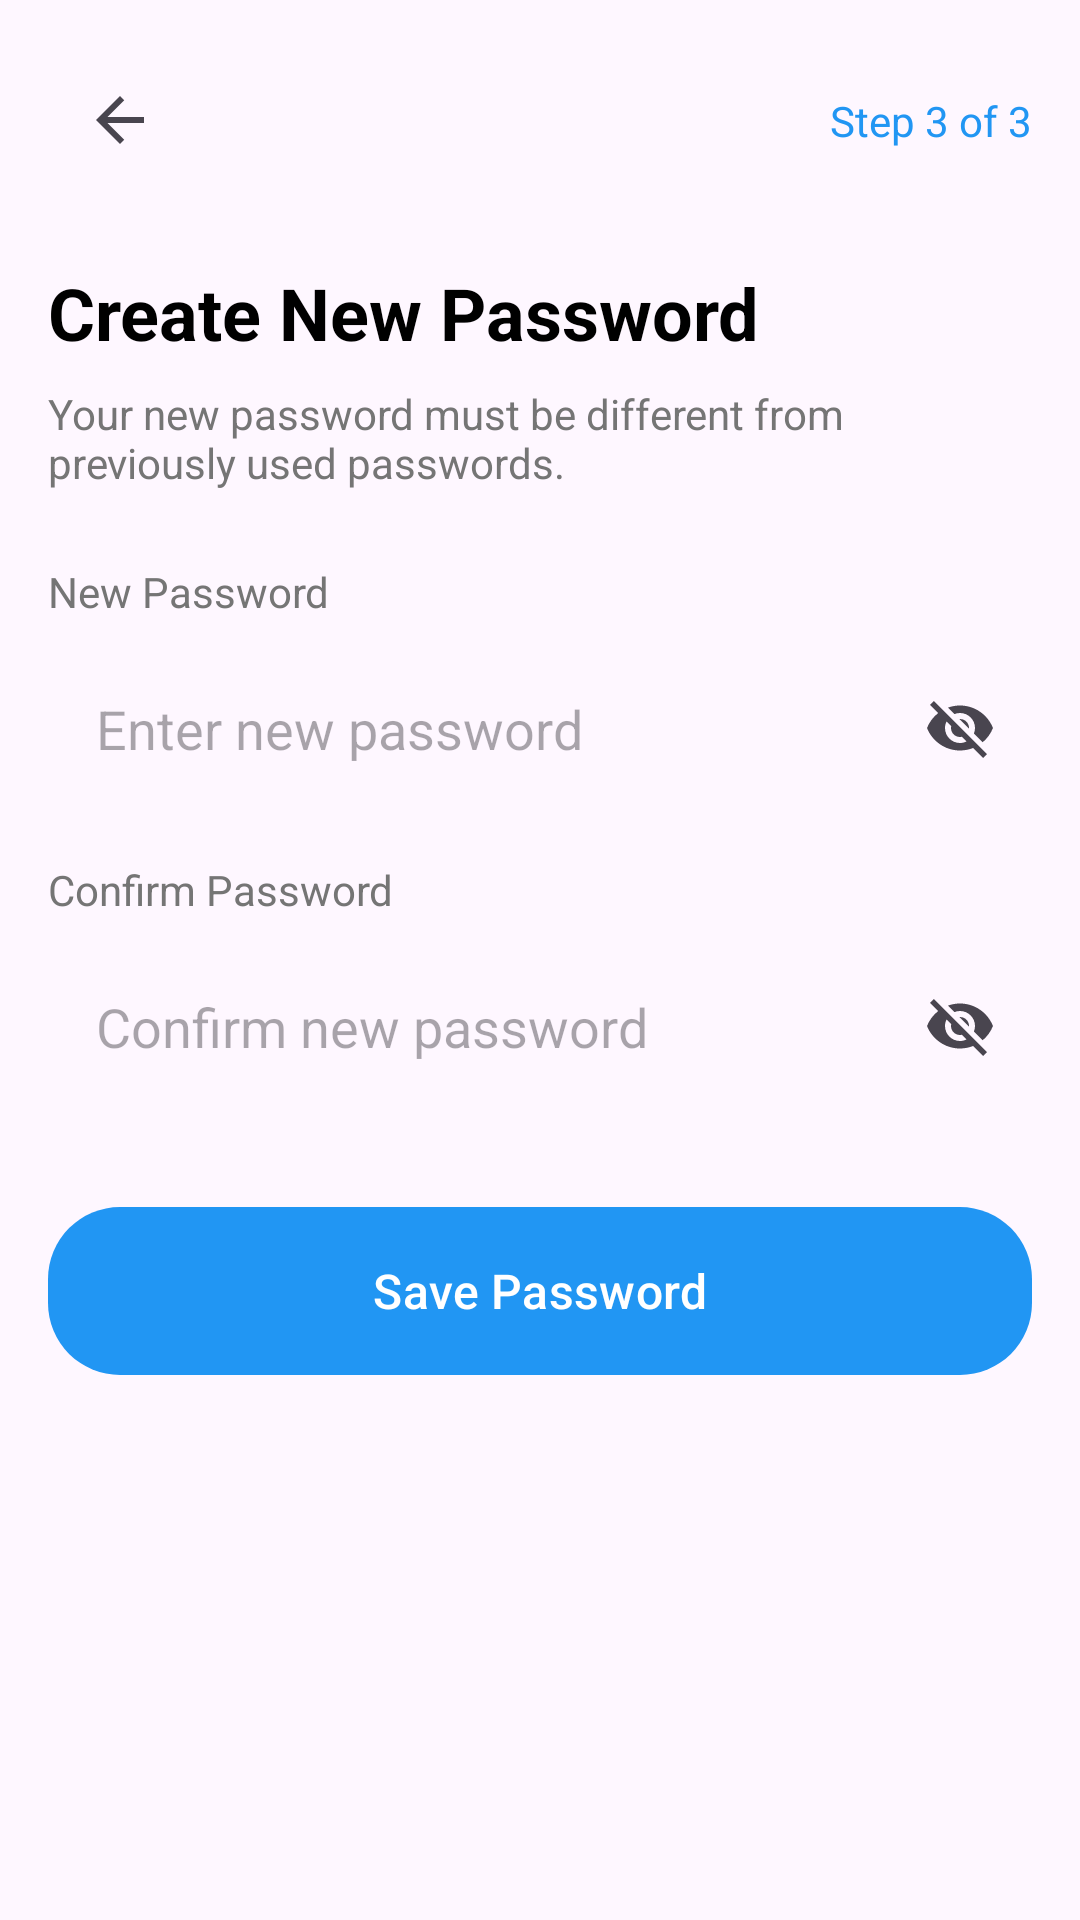

Icons on this 1080x1920 Android screen, each with the point to tap as (x=x, y=y):
Back: (x=120, y=120)
visibility off: (x=960, y=729), (x=960, y=1027)
